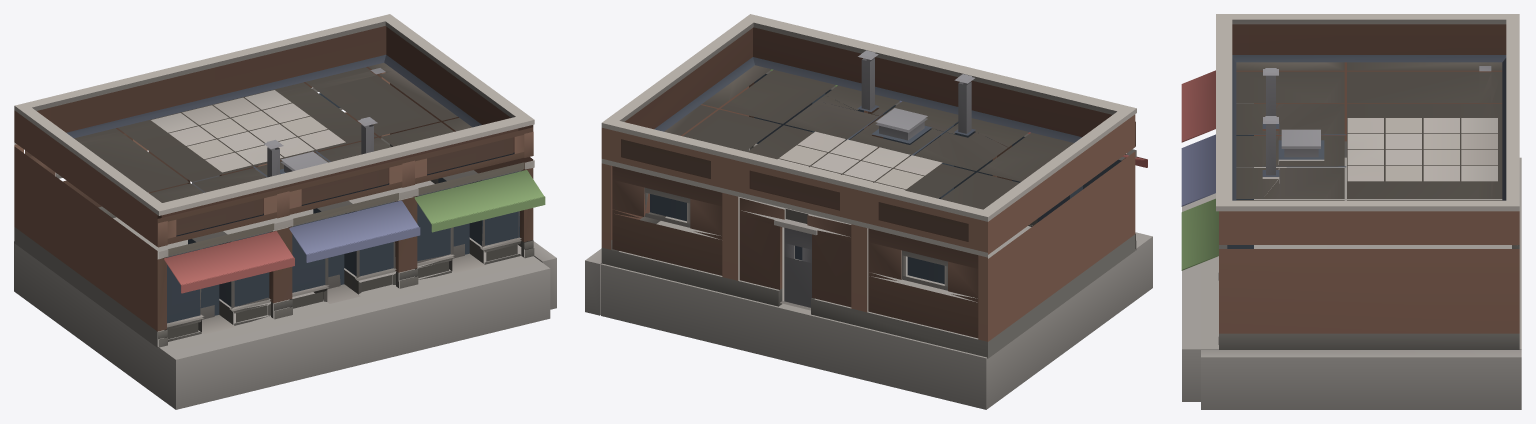
Rendered from shops.lod.glb.
3 views of the same model, side by side, from view 1: azimuth 30°, elevation 25°; view 2: azimuth 150°, elevation 25°; view 3: azimuth 270°, elevation 25° (orthographic). The views are drawn at different scales.
Visible parts, largest first — view 1: shops; view 2: shops; view 3: shops.
Part boxes in pixels (<box>): shops: <box>14,14,556,409</box>; shops: <box>585,14,1152,409</box>; shops: <box>1181,14,1521,409</box>.
Bounding box in the file's own units: 12.48 × 6.16 × 8.98.
